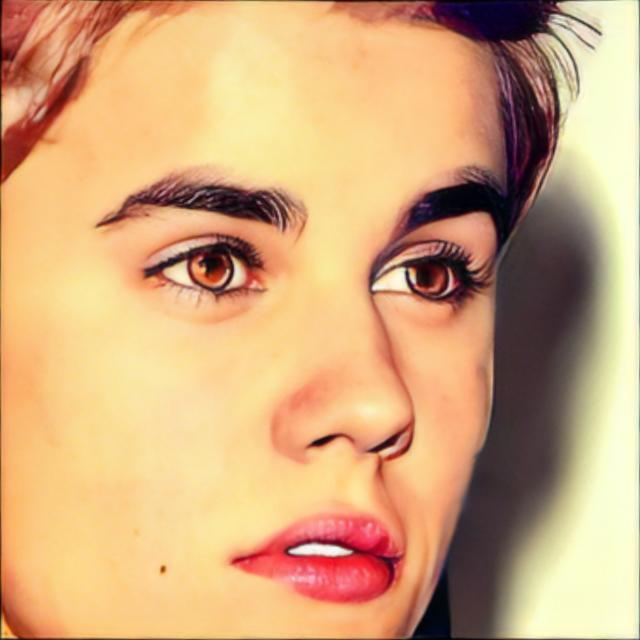happy: (8, 0, 518, 640)
